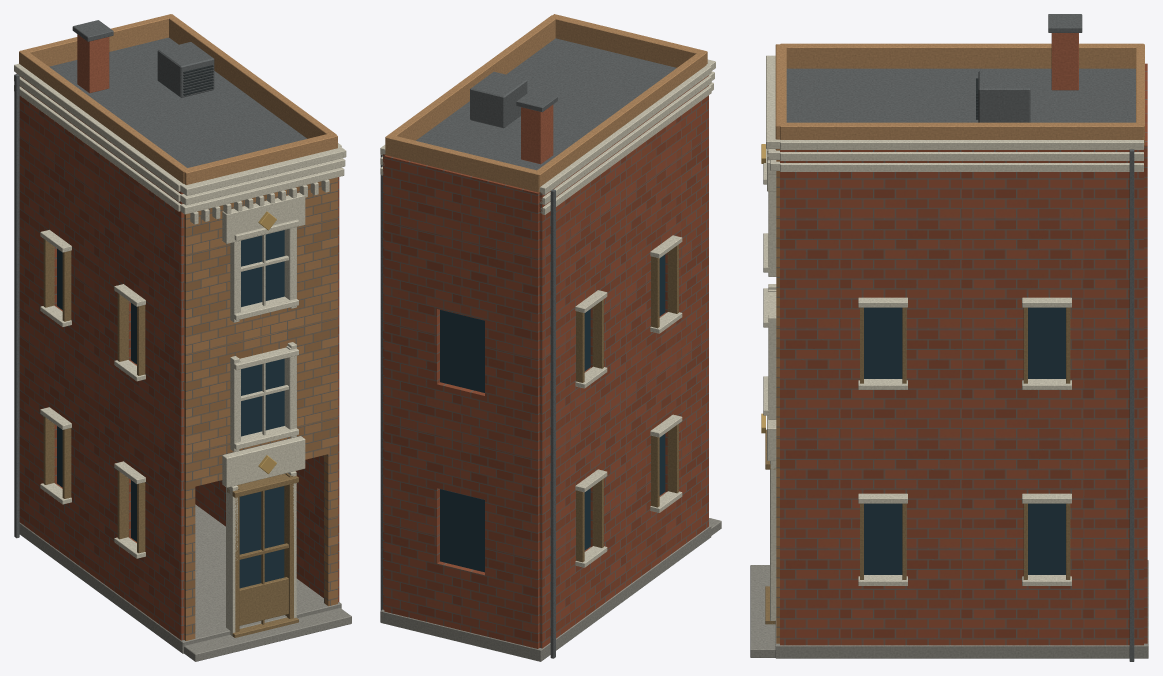
Rendered from CLSTGA18_lod1.glb.
The picture shows the model from 3 angles, left to right: view 1: azimuth 30°, elevation 25°; view 2: azimuth 150°, elevation 25°; view 3: azimuth 270°, elevation 25°; orthographic projection. The views are drawn at different scales.
Visible parts, largest first — view 1: CLSTGA18_LOD1; view 2: CLSTGA18_LOD1; view 3: CLSTGA18_LOD1.
Part boxes in pixels (x1,y1,x2,y2): CLSTGA18_LOD1: [14, 14, 351, 661]; CLSTGA18_LOD1: [380, 14, 721, 661]; CLSTGA18_LOD1: [750, 14, 1148, 661].
Bounding box in the file's own units: 3.71 × 10.45 × 6.57.
12 materials, 9 textured.
